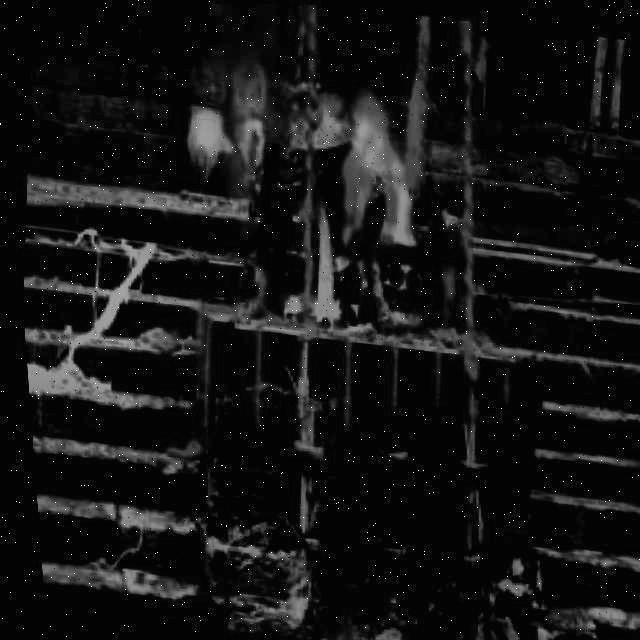Fire: (287, 68, 433, 335)
